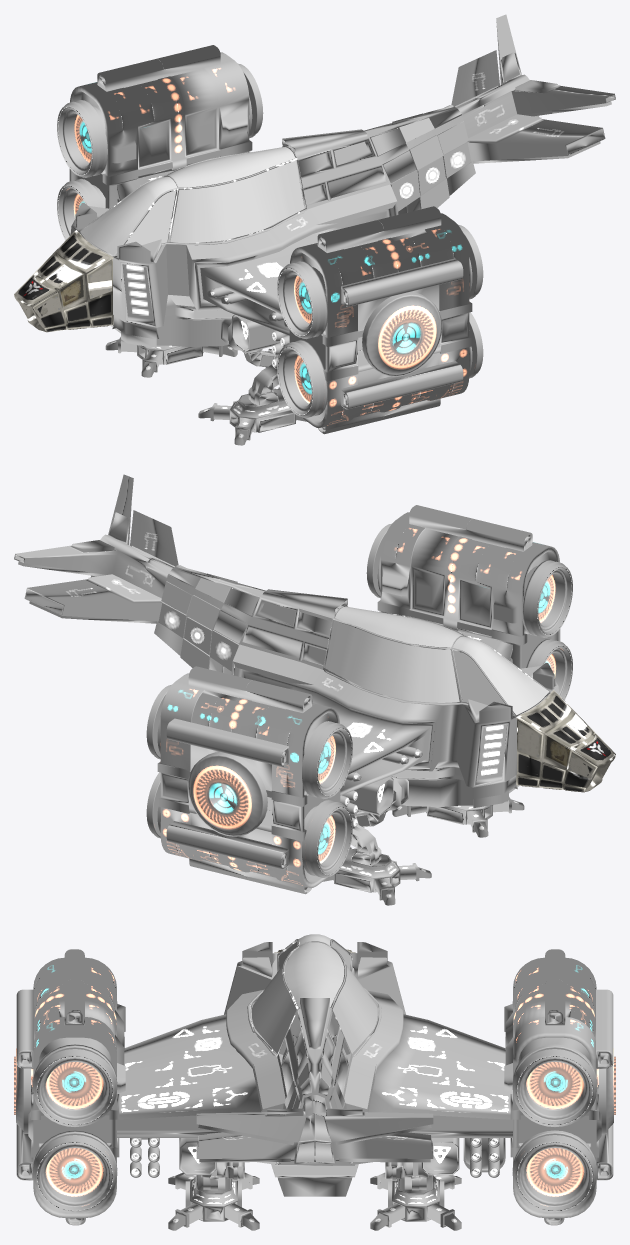
File: SmallShipCabinClosed.fbx
3 views of the same model, one above another, from view 1: azimuth 30°, elevation 25°; view 2: azimuth 150°, elevation 25°; view 3: azimuth 270°, elevation 25° (orthographic). The views are drawn at different scales.
Visible parts, largest first — view 1: SmallShipCabinClosed_LOD0; view 2: SmallShipCabinClosed_LOD0; view 3: SmallShipCabinClosed_LOD0.
Boxes of the visible parts, box(x1,y1,x2,y2) form: SmallShipCabinClosed_LOD0: box(14, 14, 615, 445); SmallShipCabinClosed_LOD0: box(14, 474, 615, 905); SmallShipCabinClosed_LOD0: box(14, 934, 615, 1230).
Bounding box in the file's own units: 819 × 358 × 723.
